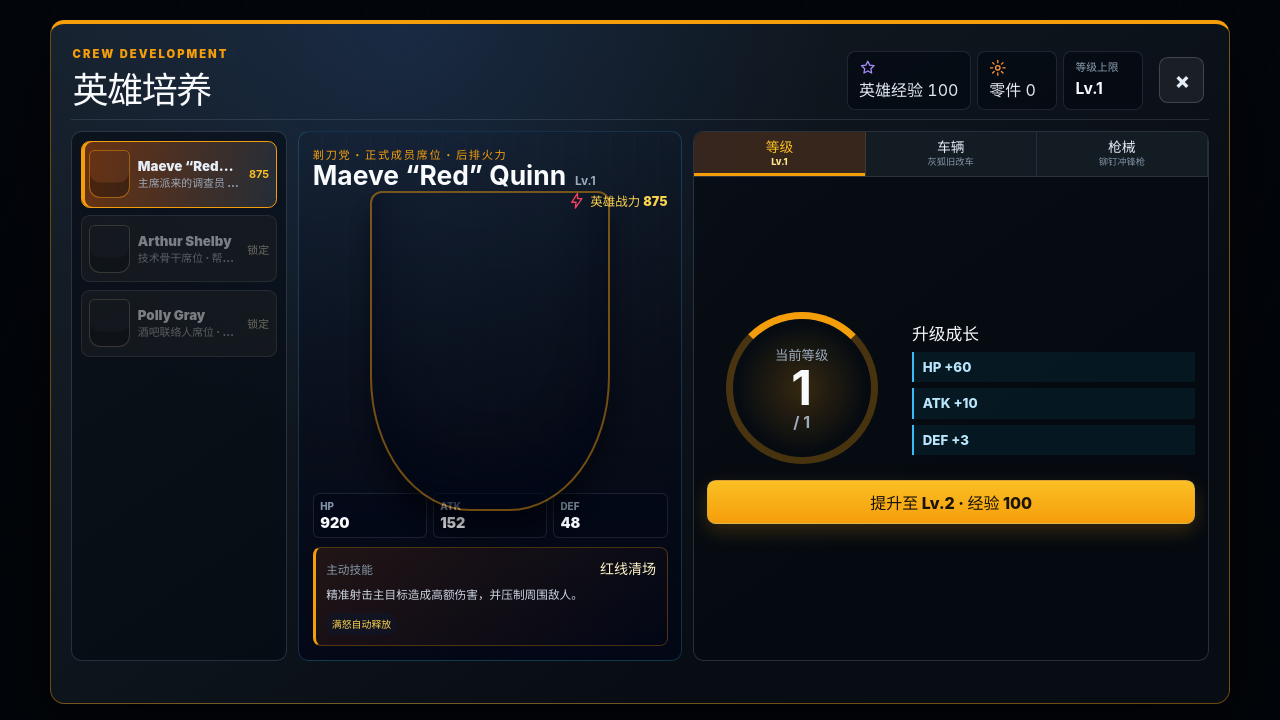
Test: HeroesPanel › blocks and explains gang cap
What coordinates should you click on to do the following:
click the button "提升至 Lv.2 · 经验 100"
I would click on:
 (951, 502)
Its box is top-left (707, 480), bottom-right (1195, 524).
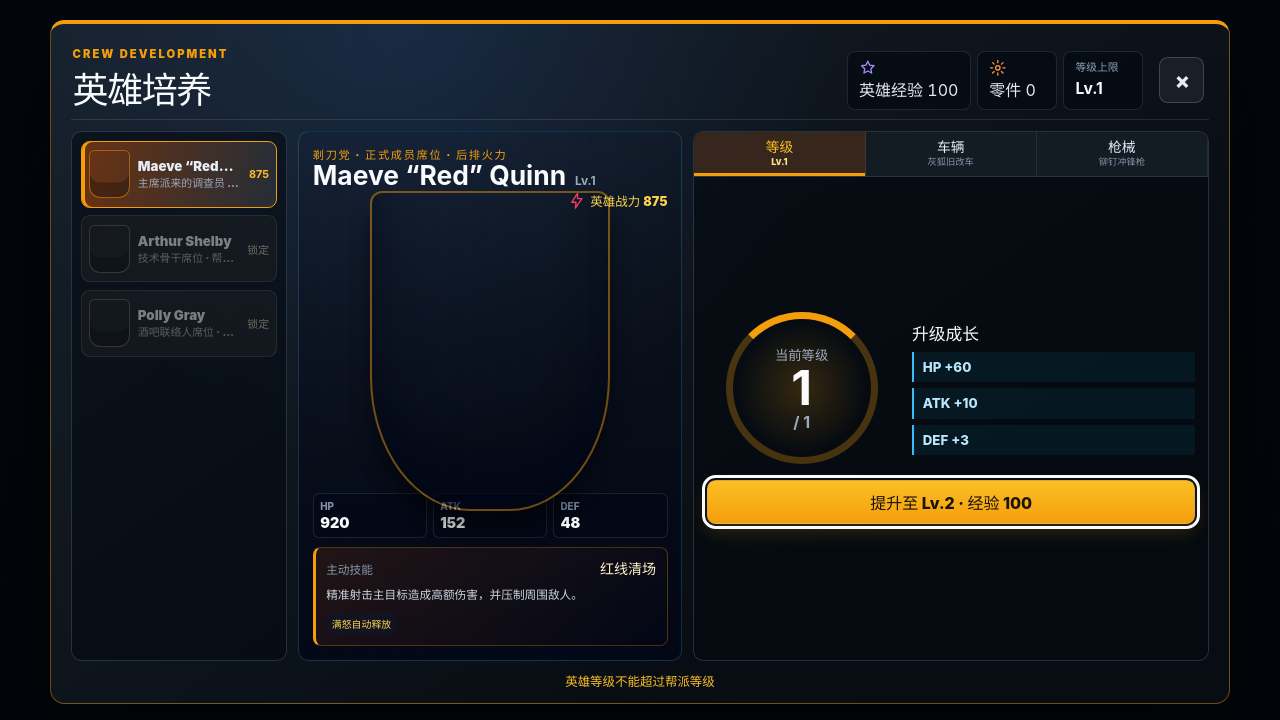
Result: the message reads "英雄等级不能超过帮派等级" at top-left (565, 674), bottom-right (715, 689)
